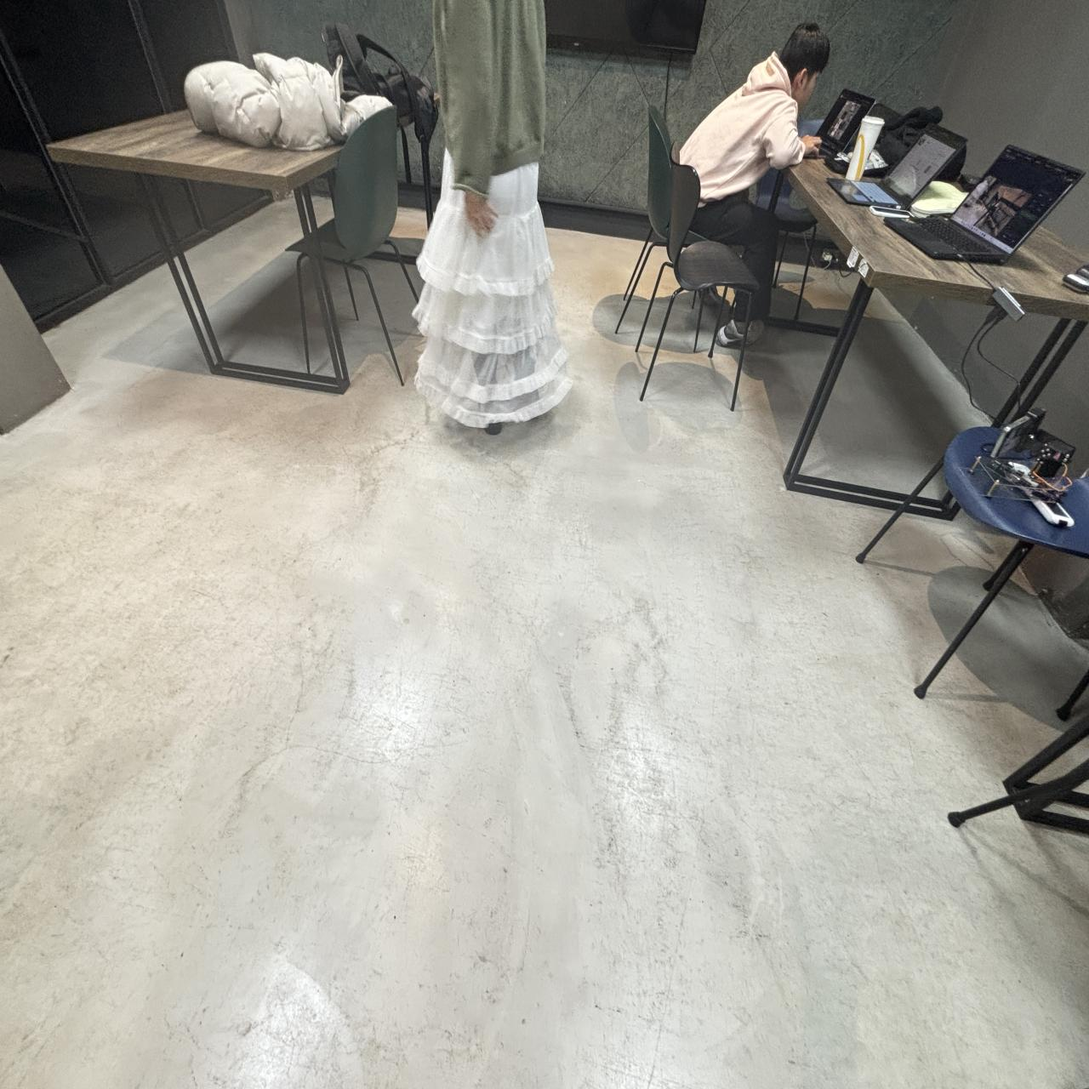person: (414, 0, 571, 433), (679, 23, 832, 347)
